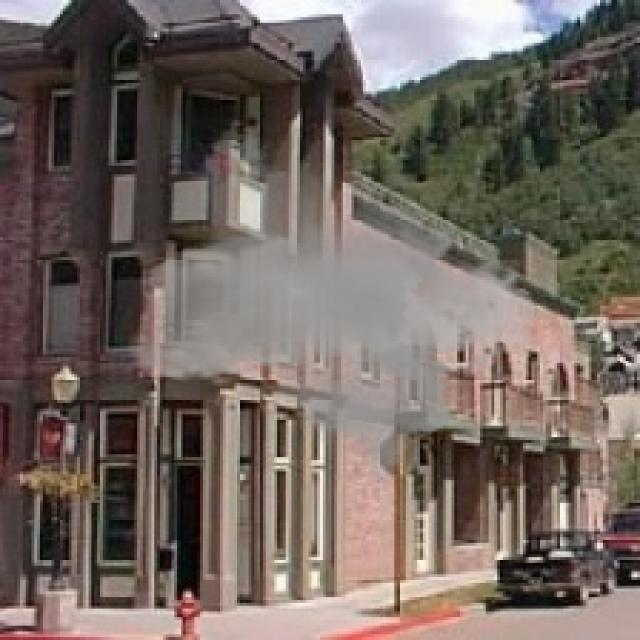Smoke: (125, 117, 538, 480)
